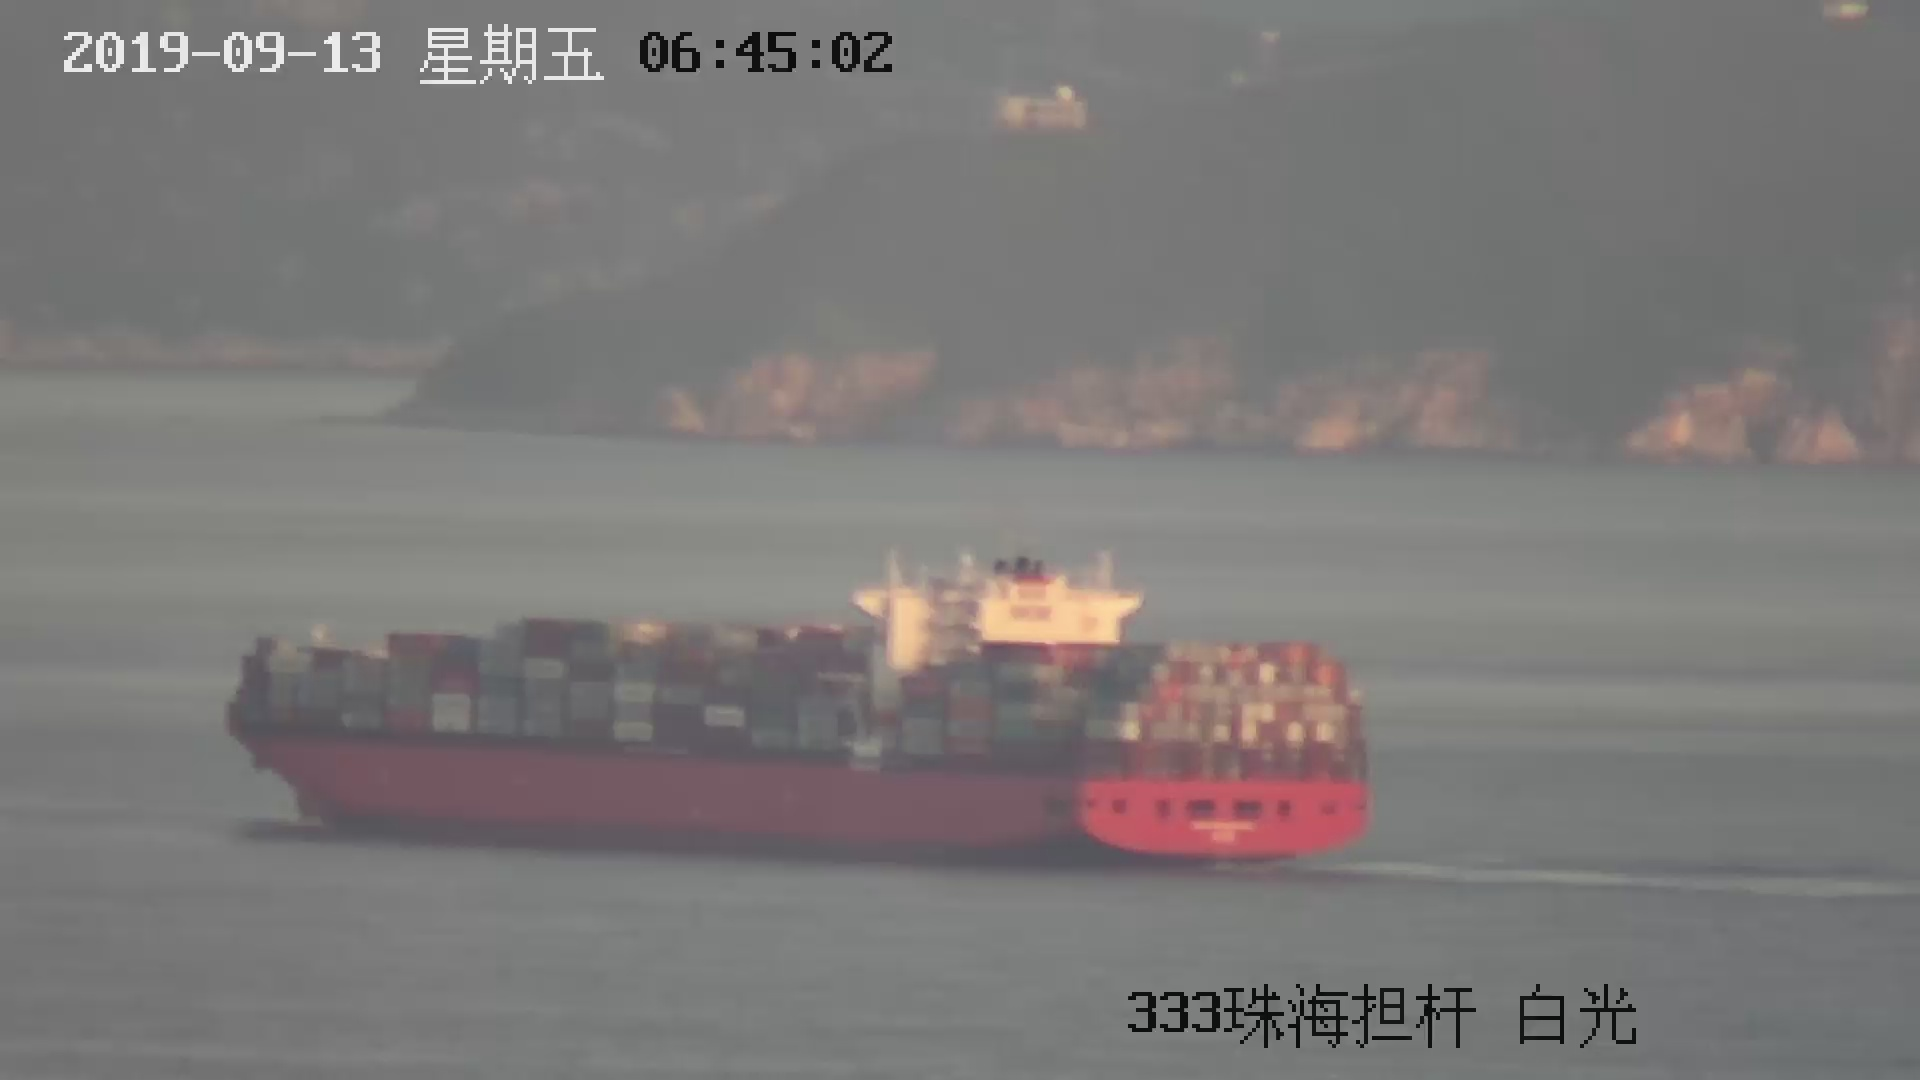ship: (216, 542, 1373, 865)
